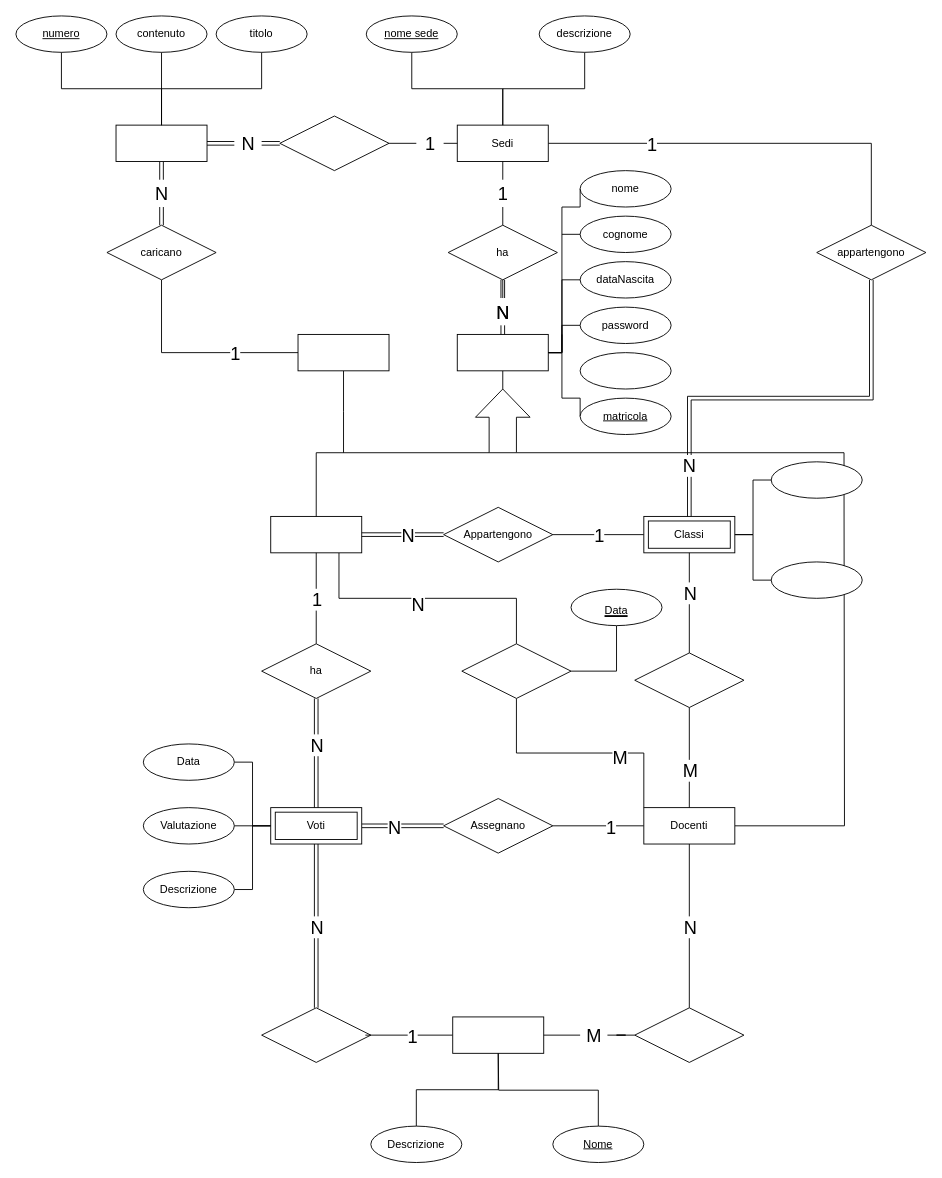
This 942x1178 diagram has some shape labels left out. Here are the shapes that lost their labels. From the top down, the centre of each, then its label:
At pixel 161 143: "Circolari".
At pixel 334 143: "Per".
At pixel 343 352: "Admin".
At pixel 502 352: "Utenti".
At pixel 625 370: "username".
At pixel 816 479: "anno".
At pixel 316 534: "Studenti".
At pixel 816 579: "sezione".
At pixel 516 670: "segna presenze".
At pixel 689 680: "Insegna".
At pixel 316 1034: "di".
At pixel 498 1034: "Materie".
At pixel 689 1034: "compete".
